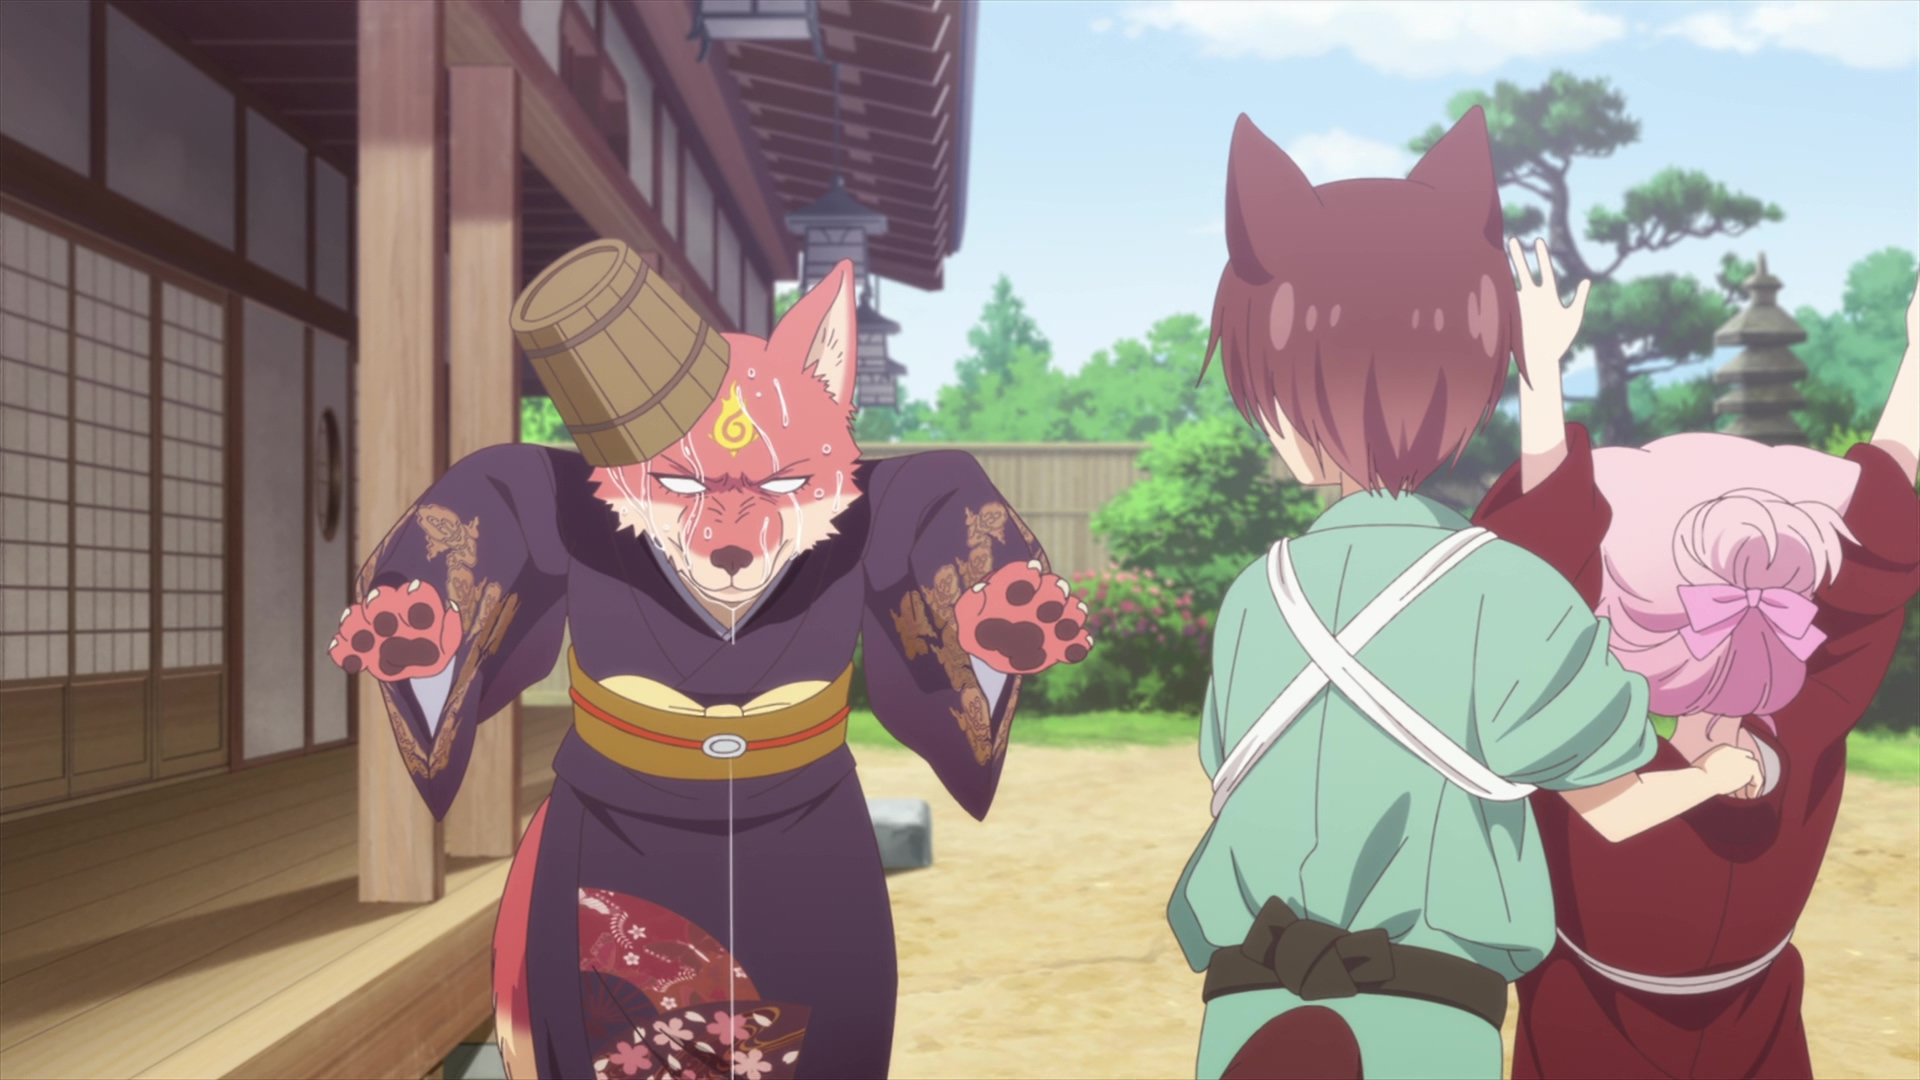枣: (1166, 108, 1756, 1080)
椿: (324, 257, 1093, 1080)
莲: (1473, 237, 1920, 1080)
